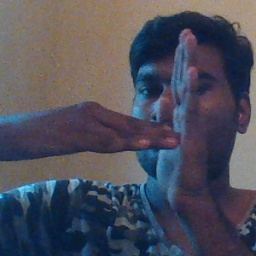Z: (90, 23, 210, 205)
